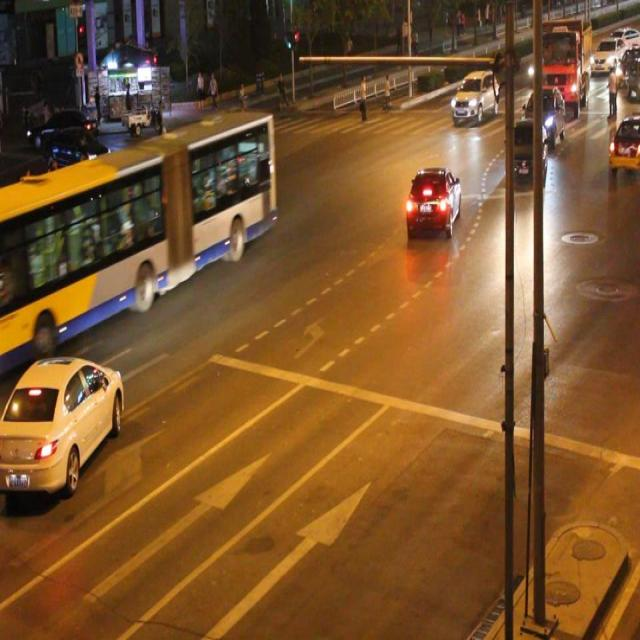car: (0, 358, 124, 494), (404, 165, 459, 240), (84, 202, 144, 264), (504, 122, 545, 186), (608, 114, 640, 174)
van: (1, 111, 275, 363)
